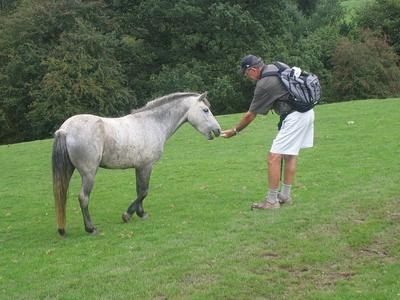person: (221, 55, 316, 211)
